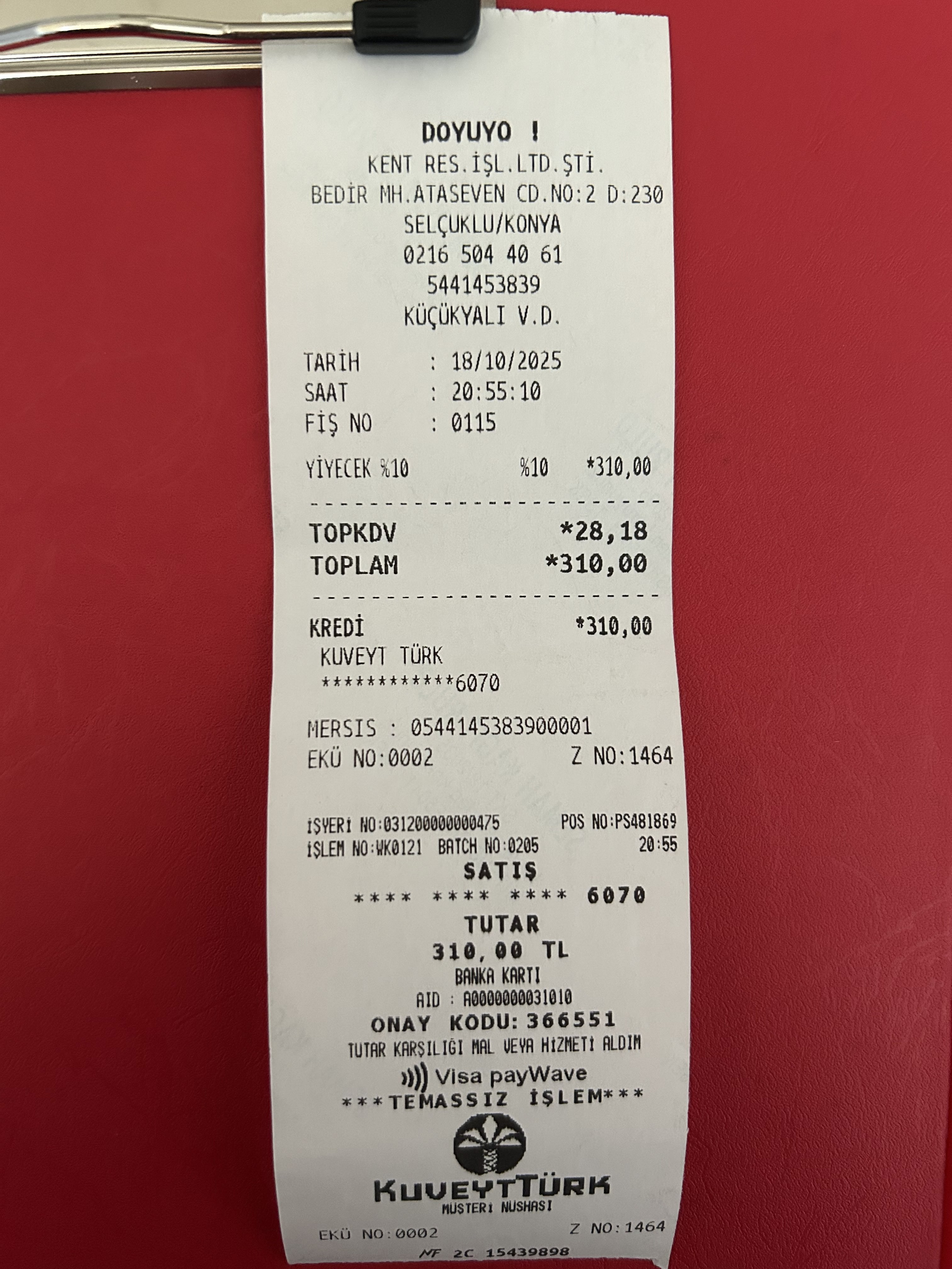date: (553, 549, 658, 582)
price: (445, 343, 570, 380)
workplace: (297, 109, 666, 238)
